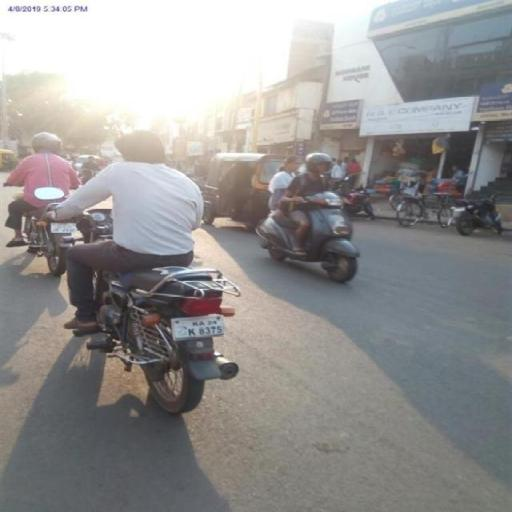bike: (31, 126, 256, 414)
numberplate: (166, 311, 240, 342)
using mobile: (120, 156, 139, 166)
withouthelmet: (118, 134, 169, 164)
